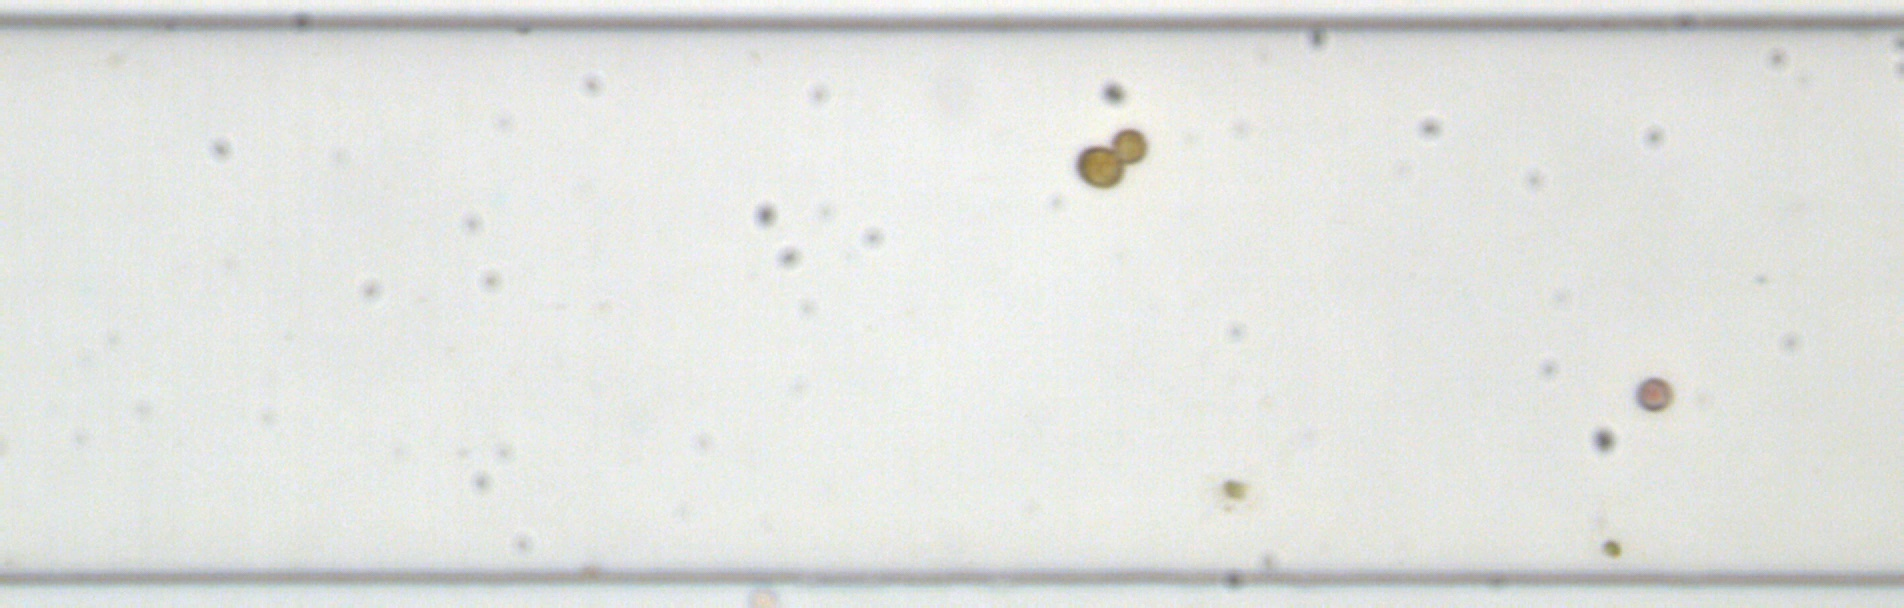Chlorella: (1599, 536, 1623, 559)
Dunaliella salina: (1219, 476, 1253, 502)
Effrenium: (1073, 143, 1124, 189), (1107, 126, 1150, 165)
Porphyridium: (1632, 373, 1676, 415)
